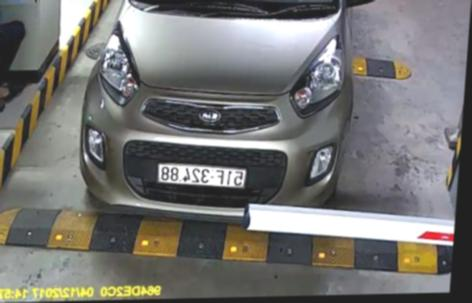License_Plate: (153, 161, 247, 189)
